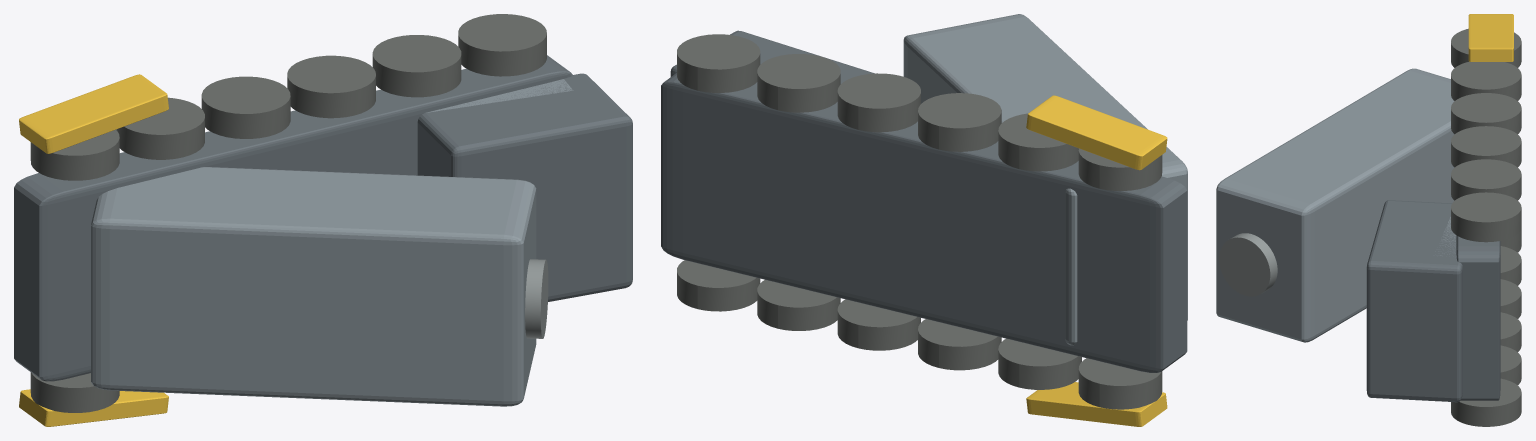
File: s-x05-specter-strategic-lod1.glb
The picture shows the model from 3 angles, left to right: view 1: azimuth 30°, elevation 25°; view 2: azimuth 150°, elevation 25°; view 3: azimuth 270°, elevation 25°; orthographic projection. The views are drawn at different scales.
Visible parts, largest first — view 1: strategic_canister, strategic_lower, strategic_cab, strategic_jack_1, strategic_wheel_1_2, strategic_wheel_1_4, strategic_wheel_1_3, strategic_wheel_1_5, strategic_wheel_1_1, strategic_wheel_1_0, strategic_jack_-1, strategic_wheel_-1_0 (+2 smaller); view 2: strategic_lower, strategic_canister, strategic_jack_1, strategic_wheel_1_5, strategic_wheel_1_3, strategic_wheel_1_2, strategic_wheel_1_4, strategic_wheel_-1_0, strategic_wheel_-1_3, strategic_wheel_-1_2, strategic_wheel_-1_1, strategic_wheel_-1_5 (+5 smaller); view 3: strategic_canister, strategic_cab, strategic_lower, strategic_wheel_1_5, strategic_missile, strategic_wheel_1_4, strategic_wheel_1_3, strategic_wheel_1_2, strategic_wheel_1_1, strategic_jack_1, strategic_wheel_-1_5, strategic_wheel_1_0 (+4 smaller).
Part boxes in pixels (x1,y1,x2,y2): strategic_canister: (91,167,536,406); strategic_lower: (14,55,572,381); strategic_cab: (417,73,632,301); strategic_jack_1: (19,74,168,153); strategic_wheel_1_2: (201,76,290,138); strategic_wheel_1_4: (372,35,461,97); strategic_wheel_1_3: (287,55,375,118); strategic_wheel_1_5: (458,14,546,76); strategic_wheel_1_1: (116,97,204,159); strategic_wheel_1_0: (30,129,119,180); strategic_jack_-1: (19,389,168,426); strategic_wheel_-1_0: (30,372,119,412); strategic_lower: (661,73,1187,372); strategic_canister: (903,14,1187,345); strategic_jack_1: (1026,95,1167,170); strategic_wheel_1_5: (677,34,760,92); strategic_wheel_1_3: (837,73,920,132); strategic_wheel_1_2: (918,93,1001,151); strategic_wheel_1_4: (757,54,840,112); strategic_wheel_-1_0: (1078,358,1162,409); strategic_wheel_-1_3: (837,299,920,350); strategic_wheel_-1_2: (918,319,1001,370); strategic_wheel_-1_1: (998,338,1081,389); strategic_wheel_-1_5: (677,260,760,311); strategic_canister: (1216,68,1454,342); strategic_cab: (1366,200,1462,402); strategic_lower: (1456,235,1500,400); strategic_wheel_1_5: (1451,192,1521,242); strategic_missile: (1219,233,1277,296); strategic_wheel_1_4: (1451,159,1521,200); strategic_wheel_1_3: (1451,126,1521,167); strategic_wheel_1_2: (1451,93,1521,134); strategic_wheel_1_1: (1451,61,1521,100); strategic_jack_1: (1468,14,1513,61); strategic_wheel_-1_5: (1451,378,1521,426); strategic_wheel_1_0: (1451,28,1521,67).
Size of what is drawn, in the model's own units: 11.25 by 6.23 by 6.8.
